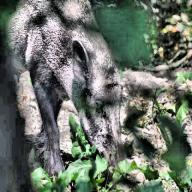boar: (8, 0, 146, 164)
